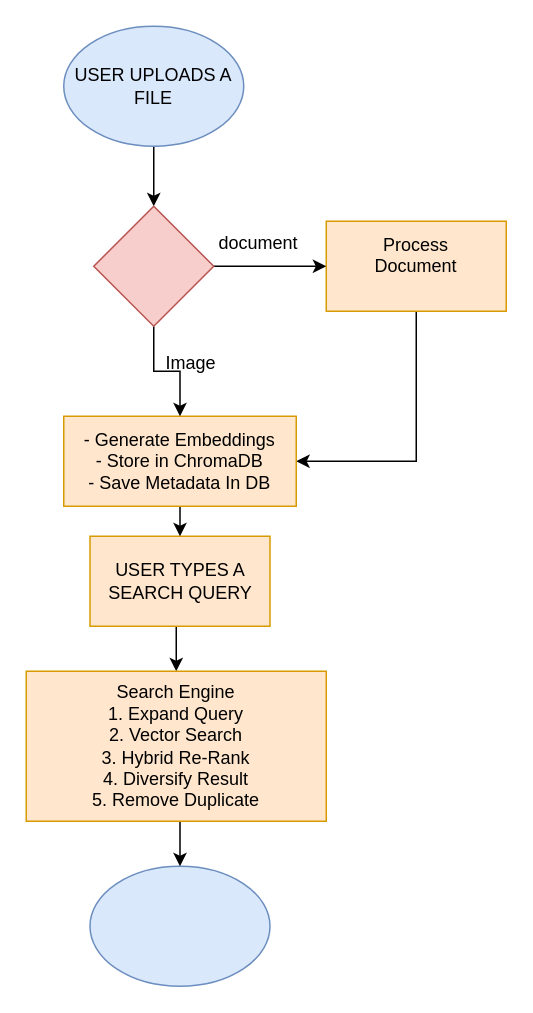
The diagram is 533 pixels wide and 1013 high, and some of its shapes have lost their labels. Here are the shapes that lost their labels. From the top down, the centre of each, then its label:
At point 153,265: "Process File".
At point 179,925: "Ranked Result Returned".
